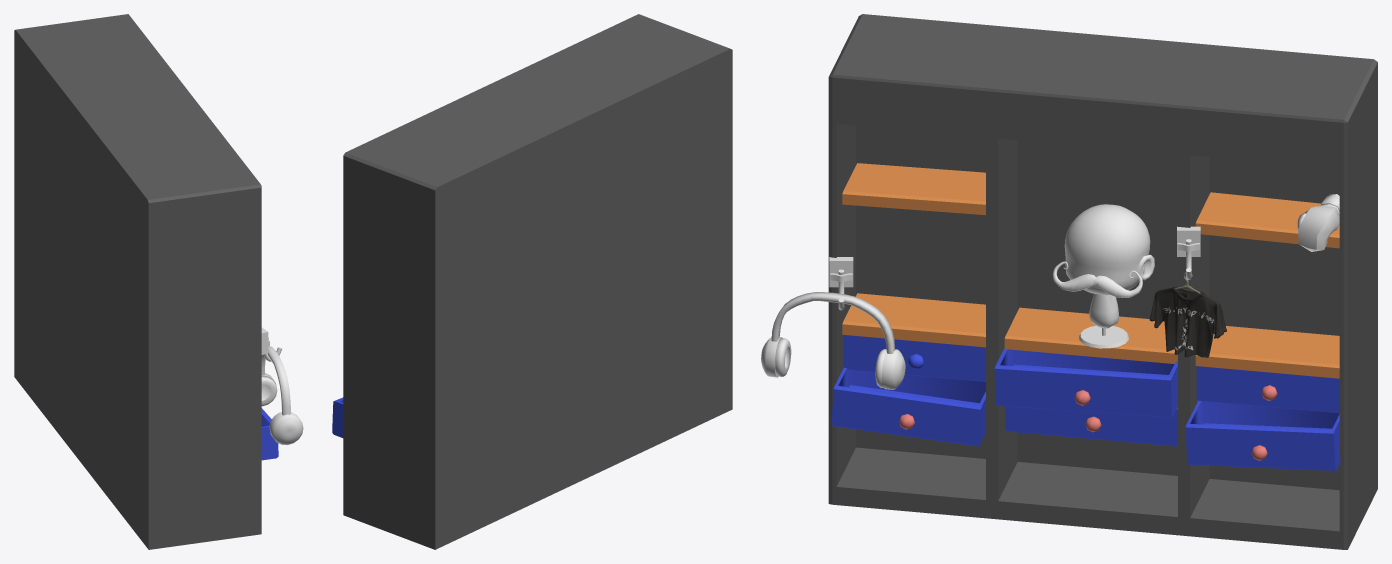
The model's file is wardrobe_left.fbx.
3 views of the same model, side by side, from view 1: azimuth 30°, elevation 25°; view 2: azimuth 150°, elevation 25°; view 3: azimuth 270°, elevation 25° (orthographic). The views are drawn at different scales.
Visible parts, largest first — view 1: Cube.037, Circle.004, Cube.041; view 2: Cube.037; view 3: Cube.037, Cube.044, Cube.047, Cube.041, Cylinder, Cube.039, Cube.045, Cube.049, Cube.043, Cube.048, Cube.046, Cube.040 (+7 smaller).
Boxes of the visible parts, box(x1,y1,x2,y2) form: Cube.037: box(14, 14, 261, 549); Circle.004: box(261, 346, 303, 445); Cube.041: box(261, 408, 278, 460); Cube.037: box(343, 14, 732, 549); Cube.037: box(828, 14, 1377, 549); Cube.044: box(994, 348, 1177, 417); Cube.047: box(1185, 400, 1340, 470); Cube.041: box(831, 367, 985, 446); Cylinder: box(1064, 204, 1154, 348); Cube.039: box(842, 163, 985, 215); Cube.045: box(1004, 307, 1177, 363); Cube.049: box(1195, 326, 1339, 378); Cube.043: box(842, 293, 985, 347); Cube.048: box(1196, 366, 1339, 413); Cube.046: box(1005, 406, 1177, 446); Cube.040: box(1195, 192, 1339, 248).
Bounding box in the file's own units: 446 × 770 × 1002.
Materials: 8 (1 with a texture image).
